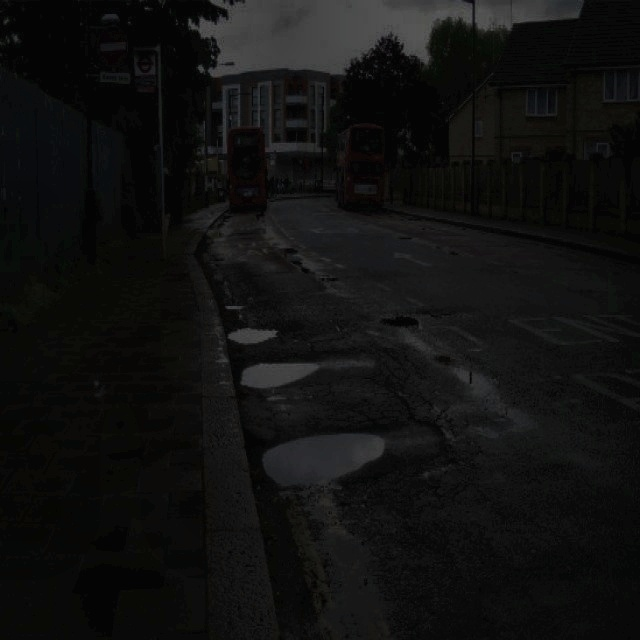Pothole: (258, 422, 390, 484), (235, 351, 323, 398), (225, 316, 281, 346)
